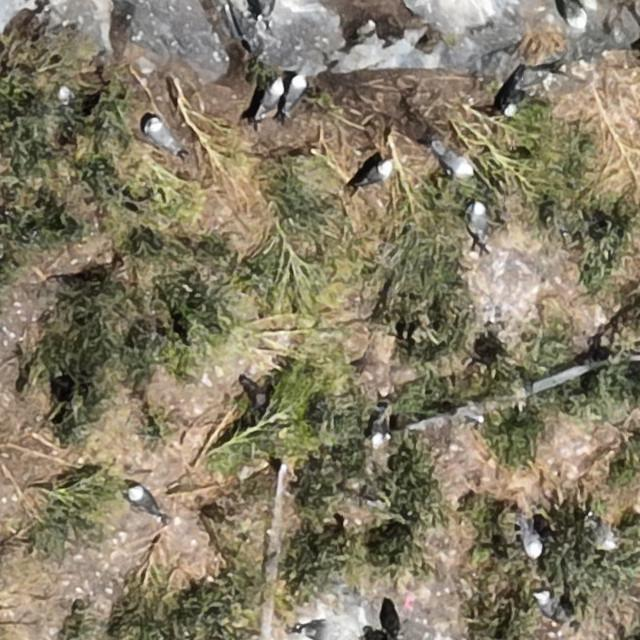umineko: (147, 120, 177, 150), (258, 81, 282, 116), (129, 489, 156, 516), (591, 518, 614, 548), (363, 161, 391, 184), (470, 203, 488, 238), (444, 153, 472, 175), (370, 412, 388, 444), (522, 528, 541, 558), (288, 77, 306, 107), (536, 590, 556, 617)
